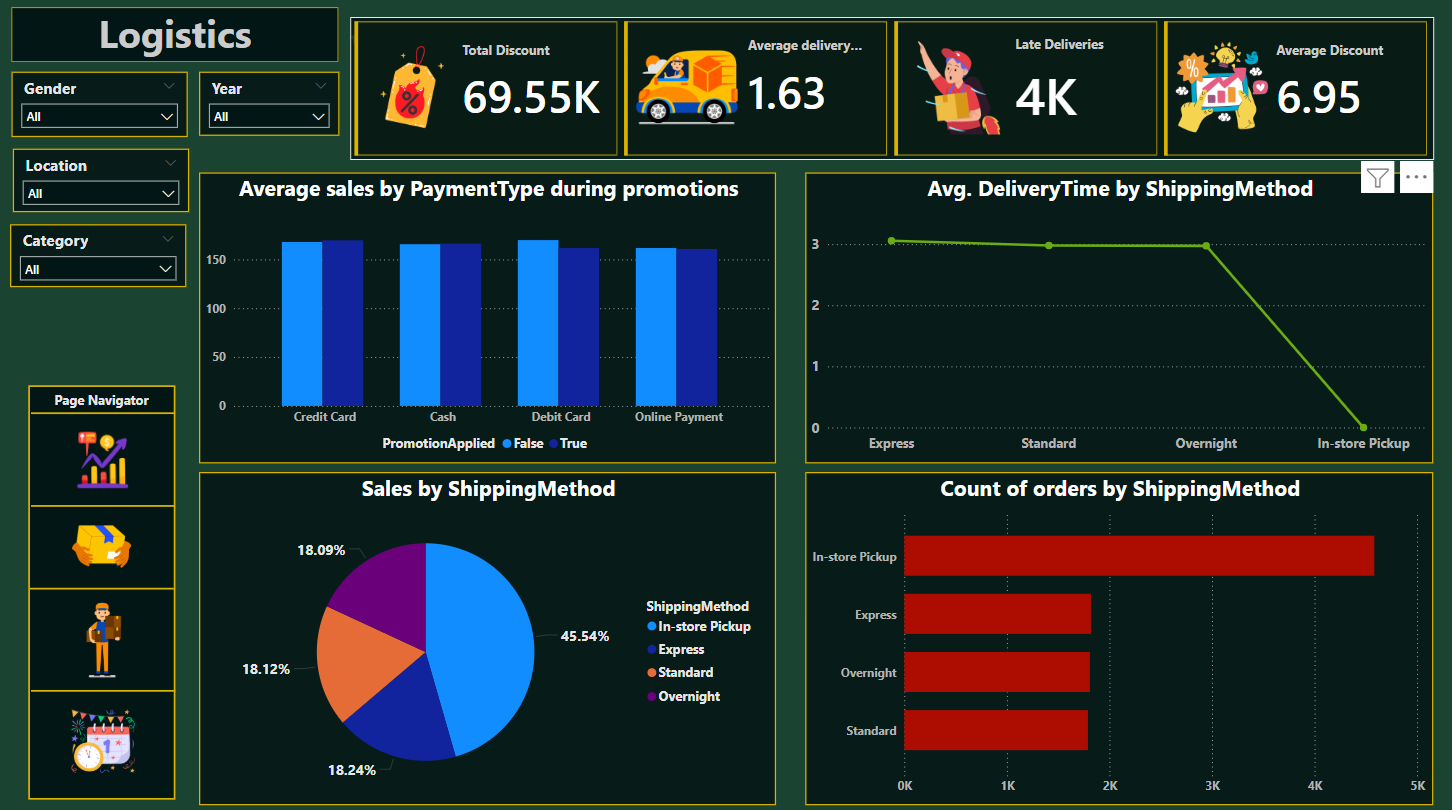

This screenshot's page, from the dashboard's own definition file:
{"tool":"powerbi","page":{"name":"Logistics","canvas":[1664,936],"ordinal":2},"visuals":[{"type":"image","box":[396,35.5,25.9,25.9],"z":0},{"type":"shape","box":[17.7,13.1,370.8,62.3],"z":1000,"group":"g1"},{"type":"clusteredColumnChart","title":"Average sales by PaymentType during promotions","fields":{"Category":["Christmas sales data.PaymentType"],"Y":["Avg(Christmas sales data.TotalPrice)"],"Series":["Christmas sales data.PromotionApplied"]},"box":[230,200,654,330],"z":1000},{"type":"barChart","title":"Count of orders by ShippingMethod","fields":{"Category":["Christmas sales data.ShippingMethod"],"Y":["CountNonNull(Christmas sales data.TransactionID)"]},"box":[918,540,712,378],"z":2000},{"type":"lineChart","title":"Avg. DeliveryTime by ShippingMethod","fields":{"Category":["Christmas sales data.ShippingMethod"],"Y":["Avg(Christmas sales data.DeliveryTime)"]},"box":[918,200,712,330],"z":3000},{"type":"pieChart","title":"Sales by ShippingMethod","fields":{"Category":["Christmas sales data.ShippingMethod"],"Y":["Sum(Christmas sales data.TotalPrice)"]},"box":[230,540,654,378],"z":4000},{"type":"cardVisual","fields":{"Data":["MeasuresTable.Total Discount","MeasuresTable.Average delivery time","MeasuresTable.Late Deliveries","MeasuresTable.Average Discount"]},"box":[402,24,1228,162],"z":5000},{"type":"textbox","box":[17.7,8.5,370.8,67.7],"z":6000,"group":"g1"},{"type":"slicer","fields":{"Values":["Christmas sales data.Gender"]},"box":[18,86,200,74],"z":6000},{"type":"slicer","fields":{"Values":["Christmas sales data.Location"]},"box":[18.3,173.3,200,72.5],"z":7000},{"type":"slicer","fields":{"Values":["Christmas sales data.Category"]},"box":[15.8,259.2,200,71.7],"z":8000},{"type":"slicer","fields":{"Values":["Christmas sales data.Date.Variation.Date Hierarchy.Year"]},"box":[230.9,86.4,159.1,72.7],"z":9000},{"type":"group","id":"g1","title":"Group 3","box":[17.7,8.5,370.8,67.7],"z":11000},{"type":"group","id":"g2","title":"Group 2","box":[36.7,442,167,470],"z":11001},{"type":"shape","box":[36.7,442,167,470],"z":12000,"group":"g3"},{"type":"group","id":"g3","title":"Group 1","box":[36.7,442,167,470],"z":13000,"group":"g2"},{"type":"image","box":[73.2,582.2,94.1,86.4],"z":13000,"group":"g3"},{"type":"textbox","box":[38.7,443.3,163.3,31],"z":14000,"group":"g2"},{"type":"image","box":[77.3,486.2,86.1,81],"z":14000,"group":"g3"},{"type":"image","box":[74.7,801.8,94.1,86.1],"z":15000,"group":"g3"},{"type":"image","box":[74.7,683.8,94.7,94.7],"z":16000,"group":"g3"},{"type":"shape","box":[39.6,468.1,163.2,12.7],"z":17000,"group":"g3"},{"type":"shape","box":[39.6,572.1,162.9,13.4],"z":19000,"group":"g3"},{"type":"shape","box":[38.5,665.2,163.5,13.7],"z":20000,"group":"g3"},{"type":"shape","box":[39.6,782.4,163.5,13.7],"z":21000,"group":"g3"}]}

Visuals, with their boxes in screenshot pixels (x1, y1, x2, y2), scaled from the page's 1664x936 canvas onto the 1452x810 screenshot:
image: 346,31,368,53
shape: 15,11,339,65
"Average sales by PaymentType during promotions" clusteredColumnChart: 201,173,771,459
"Count of orders by ShippingMethod" barChart: 801,467,1422,794
"Avg. DeliveryTime by ShippingMethod" lineChart: 801,173,1422,459
"Sales by ShippingMethod" pieChart: 201,467,771,794
cardVisual - MeasuresTable.Total Discount x MeasuresTable.Average delivery time: 351,21,1422,161
textbox: 15,7,339,66
slicer - Christmas sales data.Gender: 16,74,190,138
slicer - Christmas sales data.Location: 16,150,190,213
slicer - Christmas sales data.Category: 14,224,188,286
slicer - Christmas sales data.Date.Variation.Date Hierarchy.Year: 201,75,340,138
"Group 3" group: 15,7,339,66
"Group 2" group: 32,382,178,789
shape: 32,382,178,789
"Group 1" group: 32,382,178,789
image: 64,504,146,579
textbox: 34,384,176,410
image: 67,421,143,491
image: 65,694,147,768
image: 65,592,148,674
shape: 35,405,177,416
shape: 35,495,177,507
shape: 34,576,176,588
shape: 35,677,177,689
